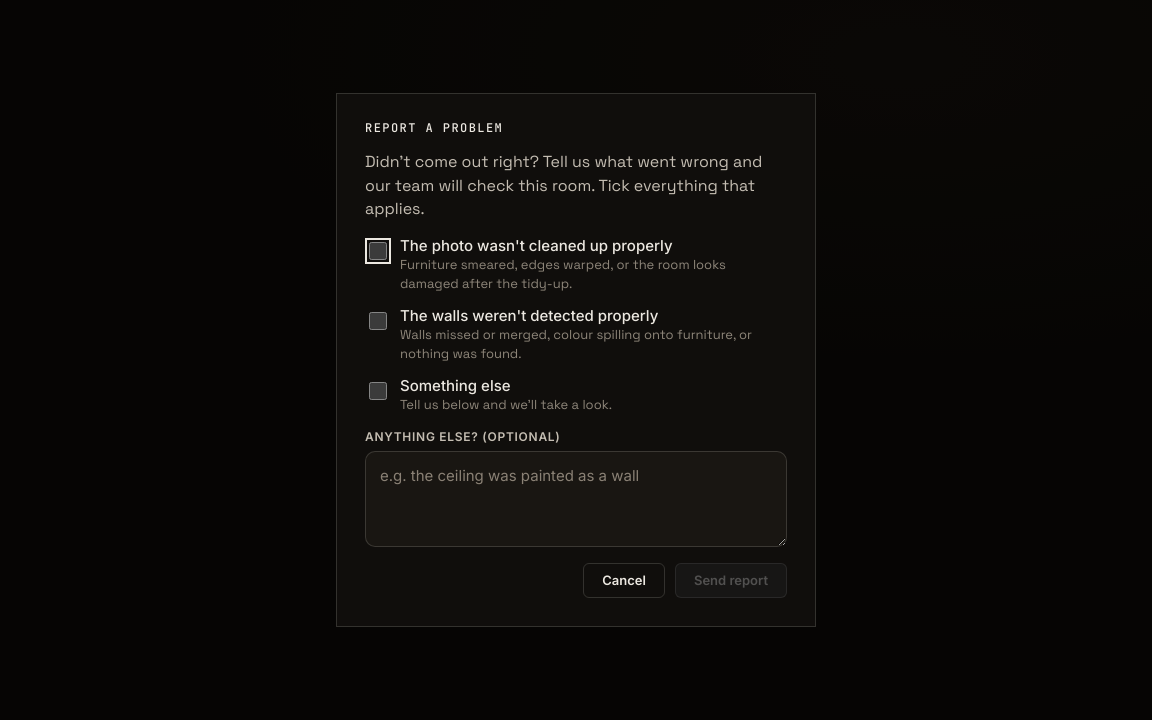
Test: ReportDialog › confirms the report landed instead of leaving the form up
Click the checkbox labelled "walls weren't detected properly".
click(378, 321)  # box [369,312,387,330]
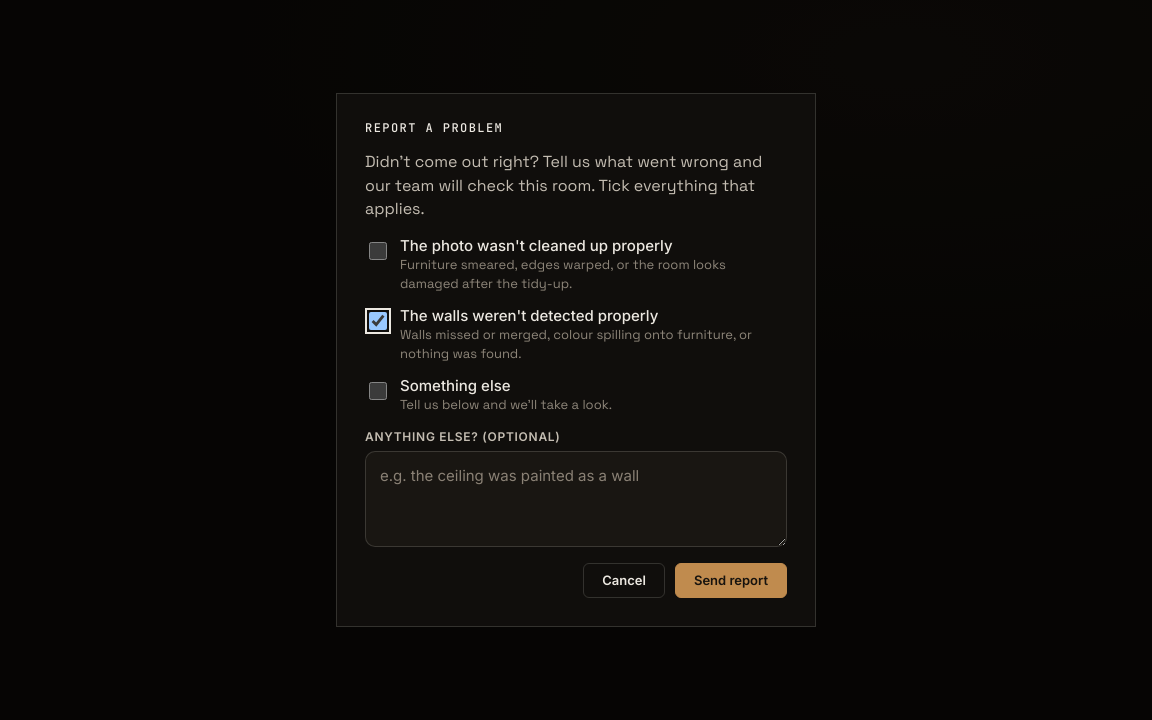
Click the button "Send report".
click(731, 580)  # box [675,562,787,598]
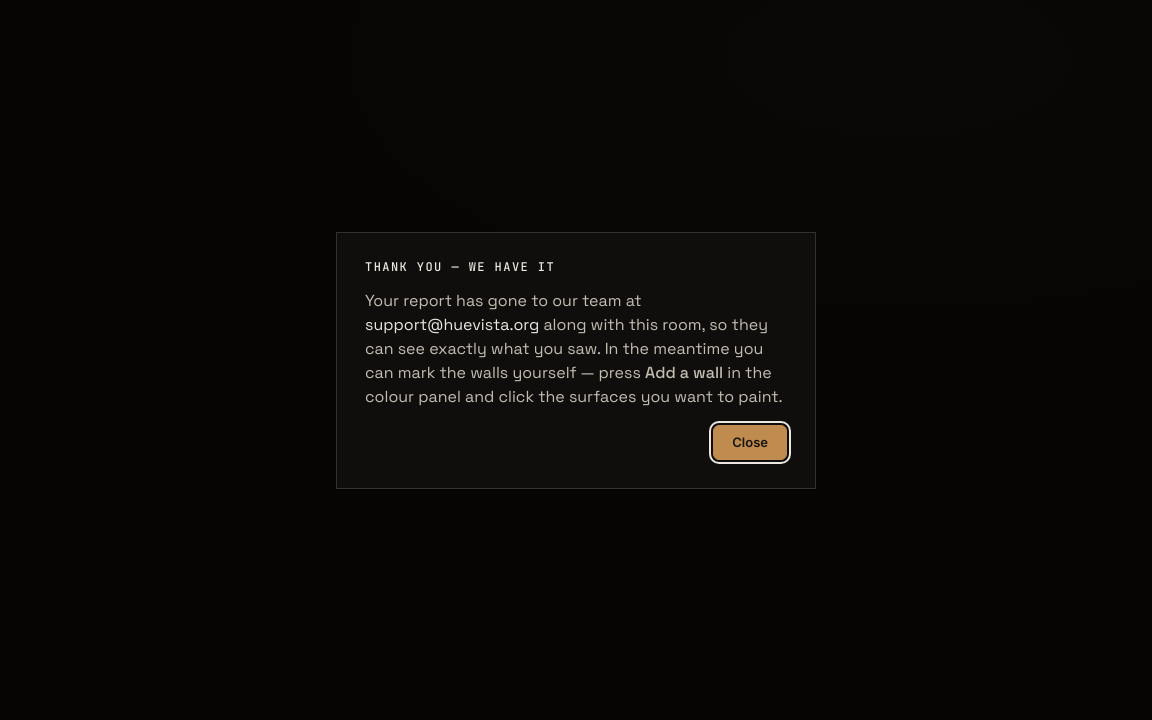
Expected: the text "Thank you — we have it" is shown, [365,258,555,274]
Expected: the button "Send report" is gone
